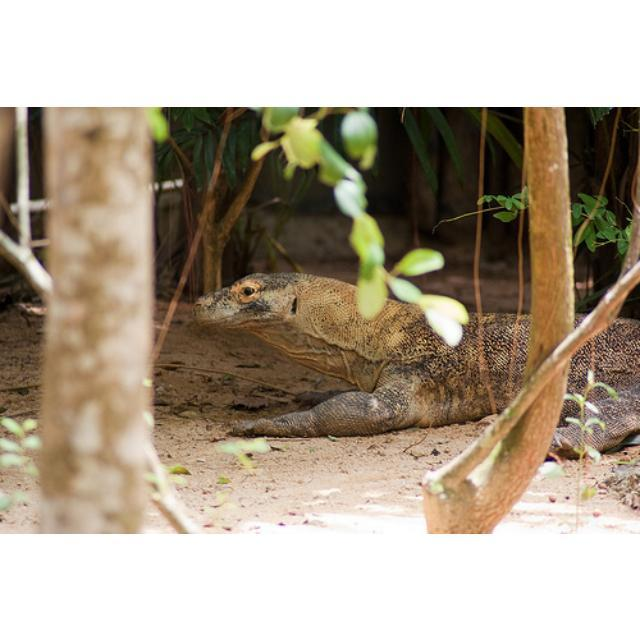KomodoDragon: (192, 269, 636, 457)
